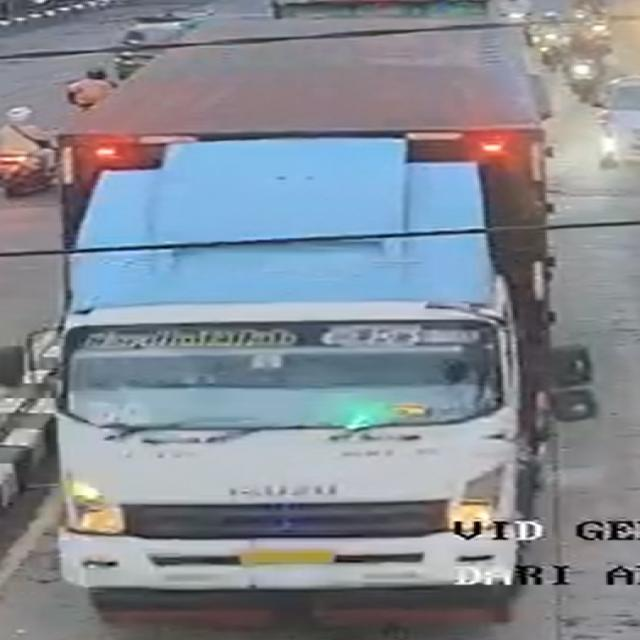Truck: (27, 28, 593, 629)
